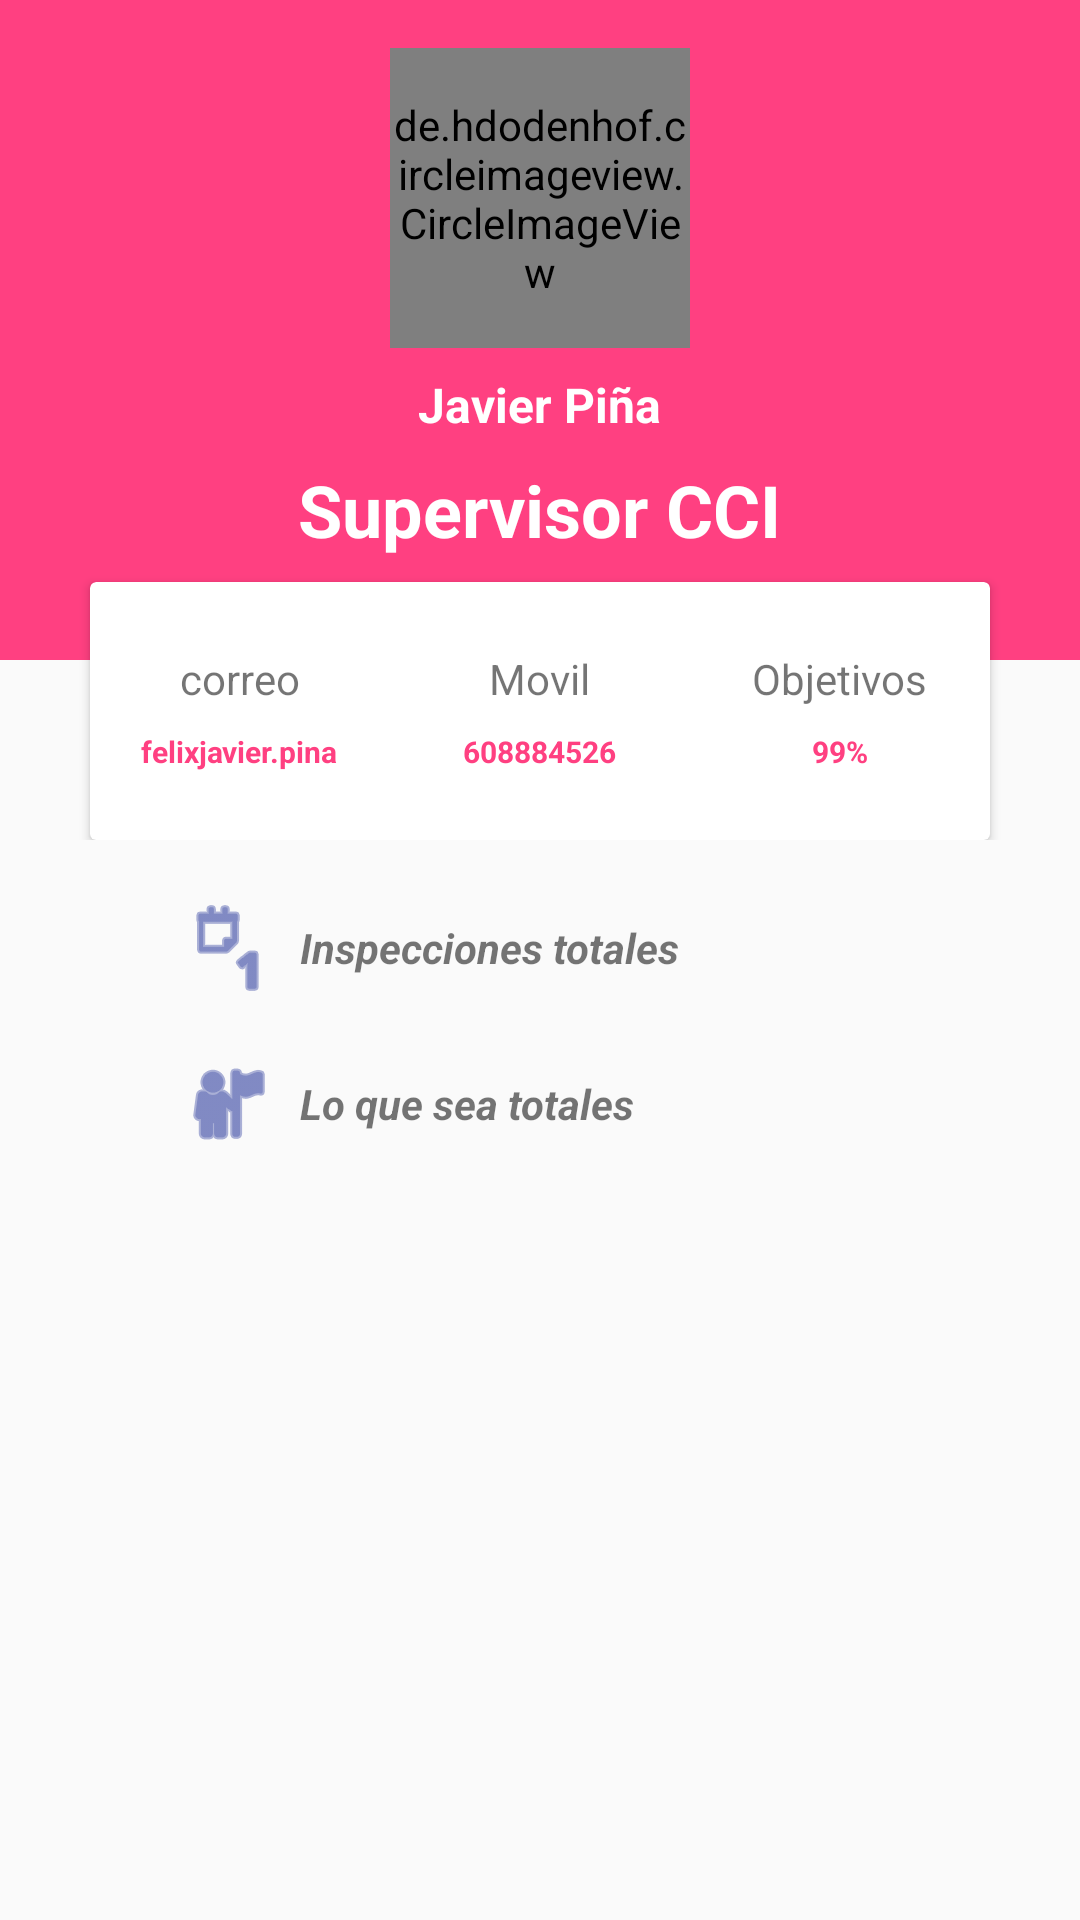

Named icons in this screenshot (1080px x 1920px) and their centers, [x,y]:
day: [227,948]
myplaces: [229,1104]
